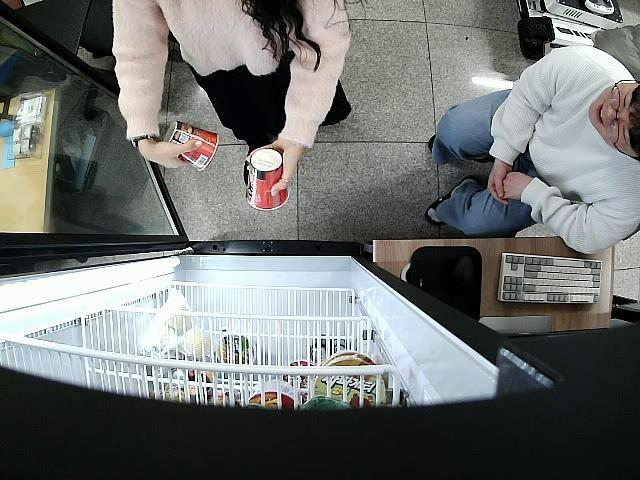02_shinRamen_S: (161, 121, 218, 170), (244, 150, 289, 212)
